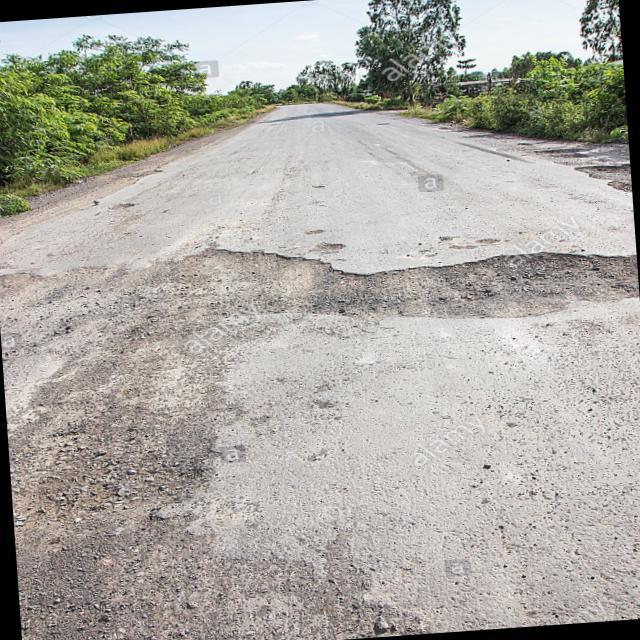Pothole: (338, 232, 640, 358)
